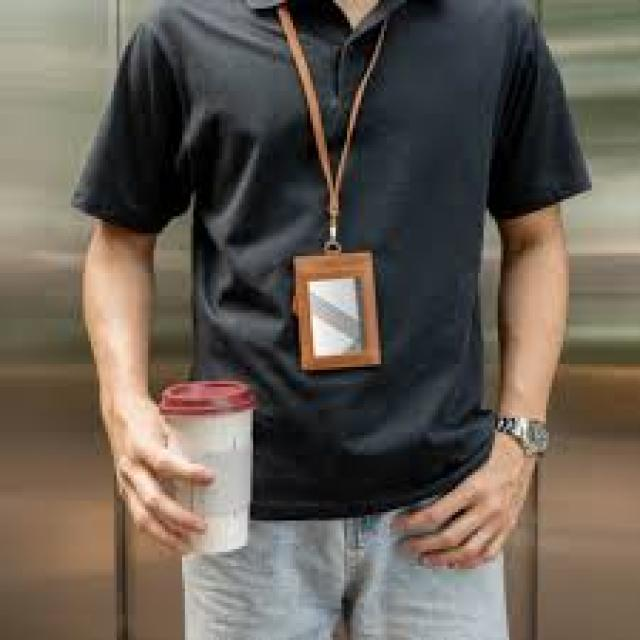id_card: (272, 17, 398, 385)
